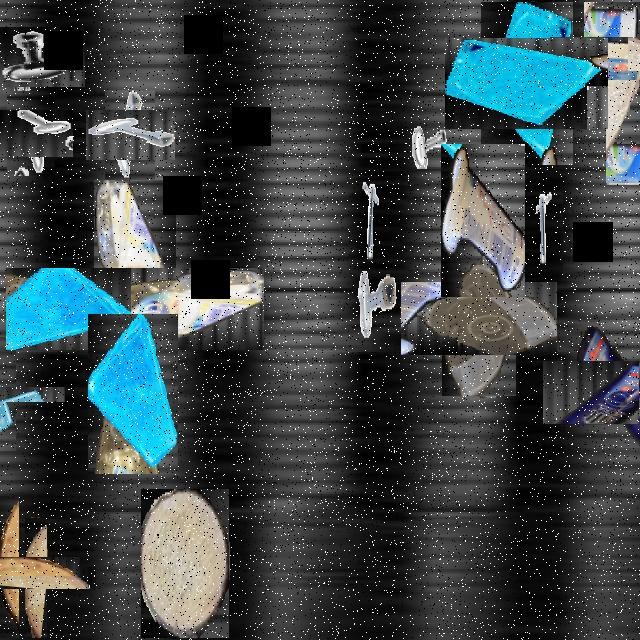glass: (463, 20, 591, 147), (88, 314, 178, 474), (0, 362, 40, 427)
metal: (0, 14, 73, 99), (349, 180, 403, 276), (95, 100, 165, 170), (400, 76, 452, 169), (513, 188, 563, 278), (0, 100, 64, 166), (356, 263, 398, 338)
plastic: (50, 224, 220, 395), (422, 260, 536, 376), (441, 144, 525, 297), (559, 344, 640, 441), (567, 18, 640, 109)
wood: (141, 489, 229, 638), (1, 542, 72, 614), (0, 526, 49, 607), (606, 80, 640, 183)
